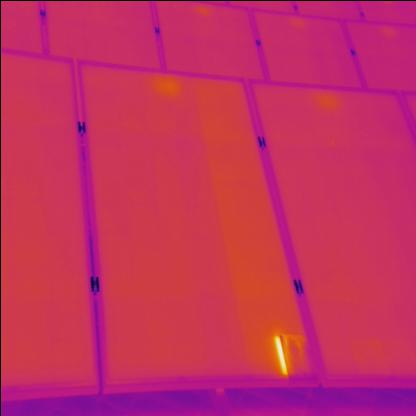hotspot: (272, 330, 306, 378)
